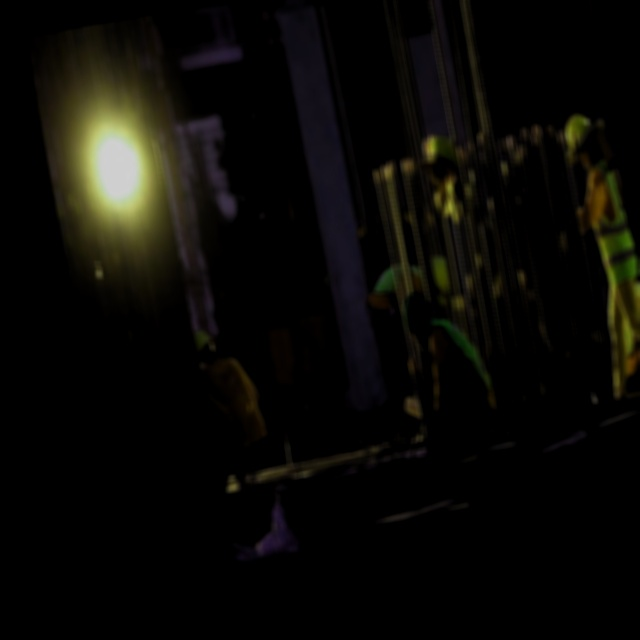Con_Casco: (417, 131, 464, 199), (562, 112, 597, 166)
Con_Chaleco: (579, 160, 640, 292), (426, 313, 493, 397)
